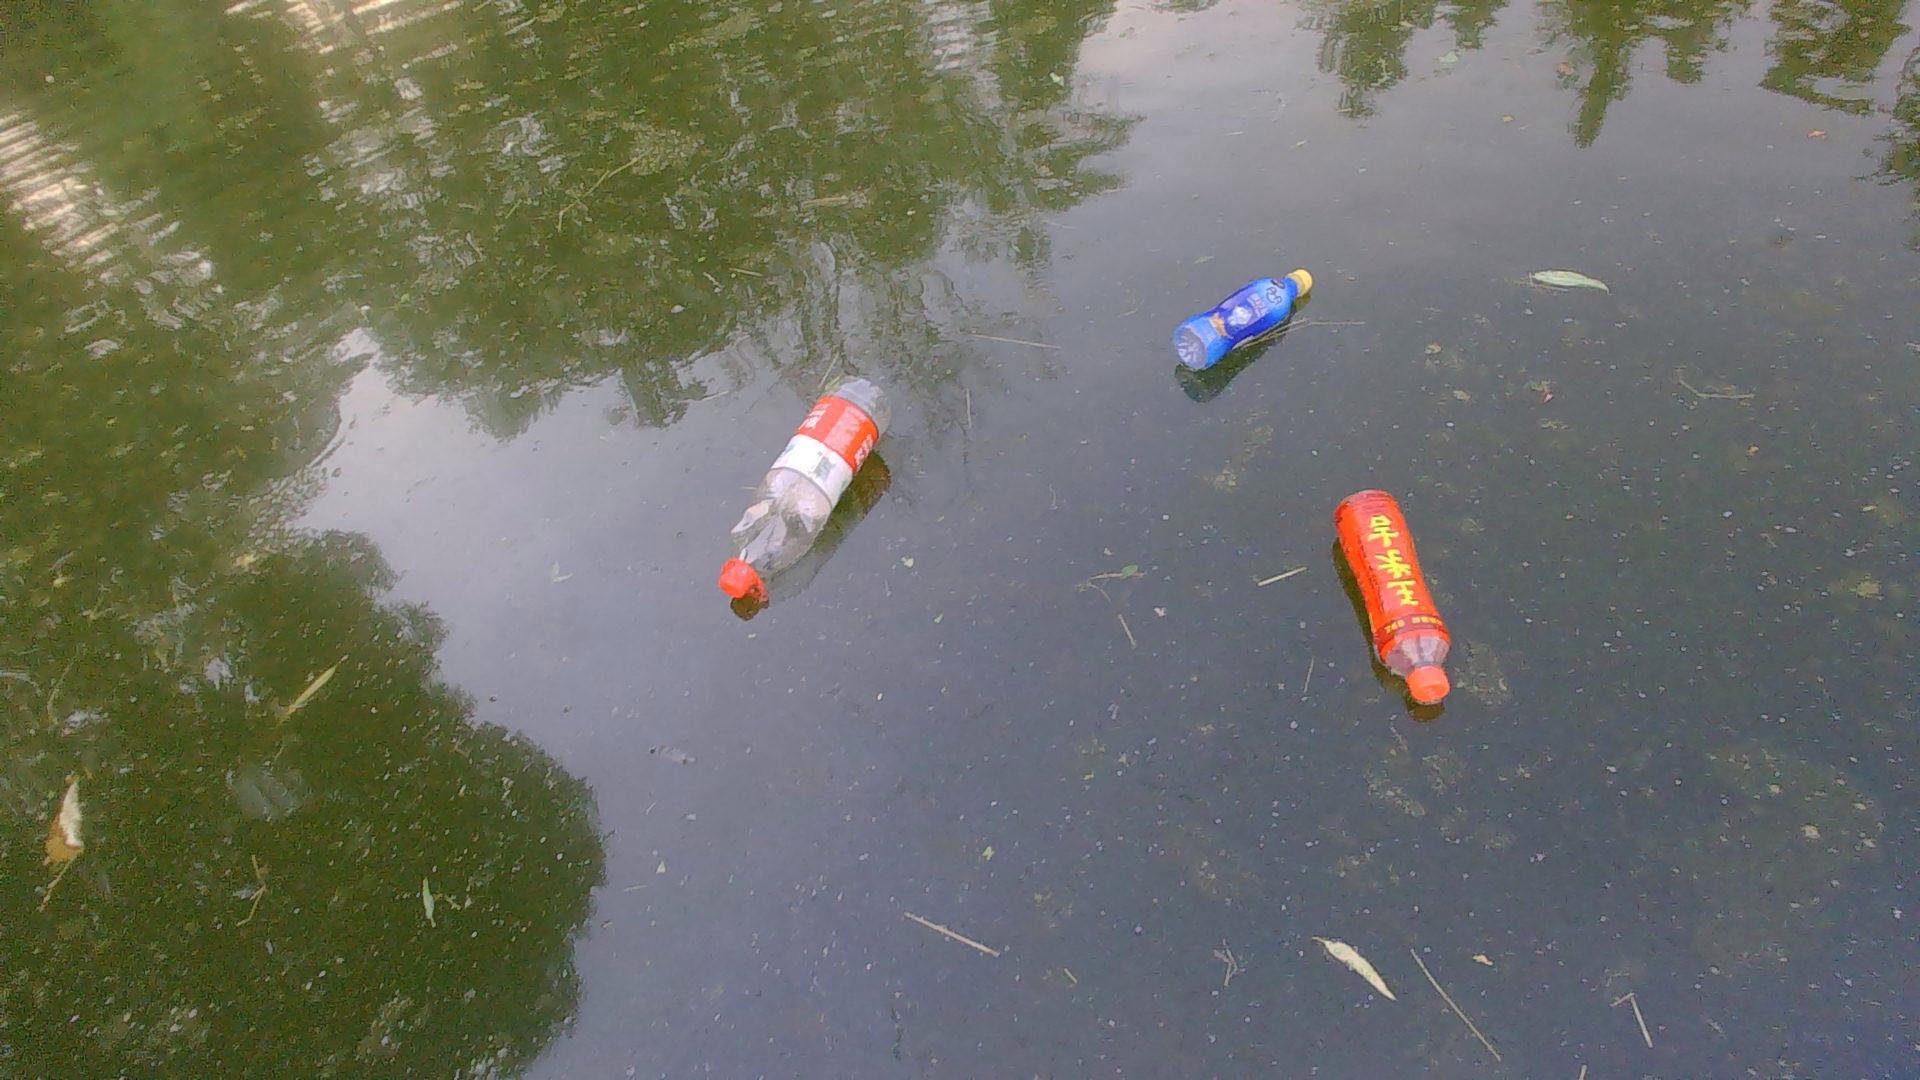Plastic: (708, 375, 901, 615), (1329, 483, 1464, 712), (1167, 258, 1329, 386)
